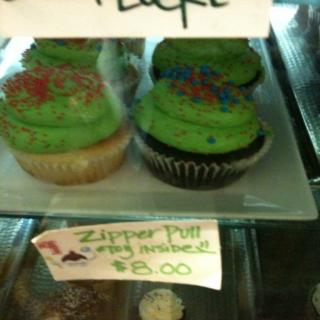Cake: (126, 59, 268, 191), (0, 58, 133, 185), (16, 40, 140, 104), (150, 36, 268, 98)
